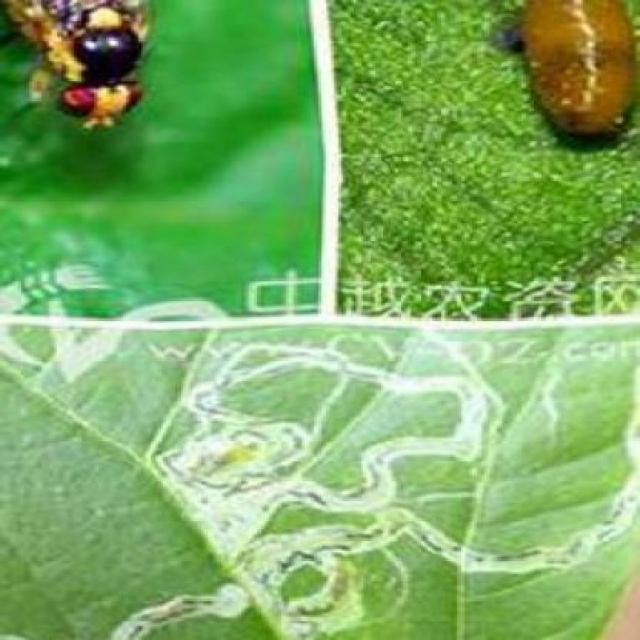whorl-maggot: (496, 0, 635, 155)
